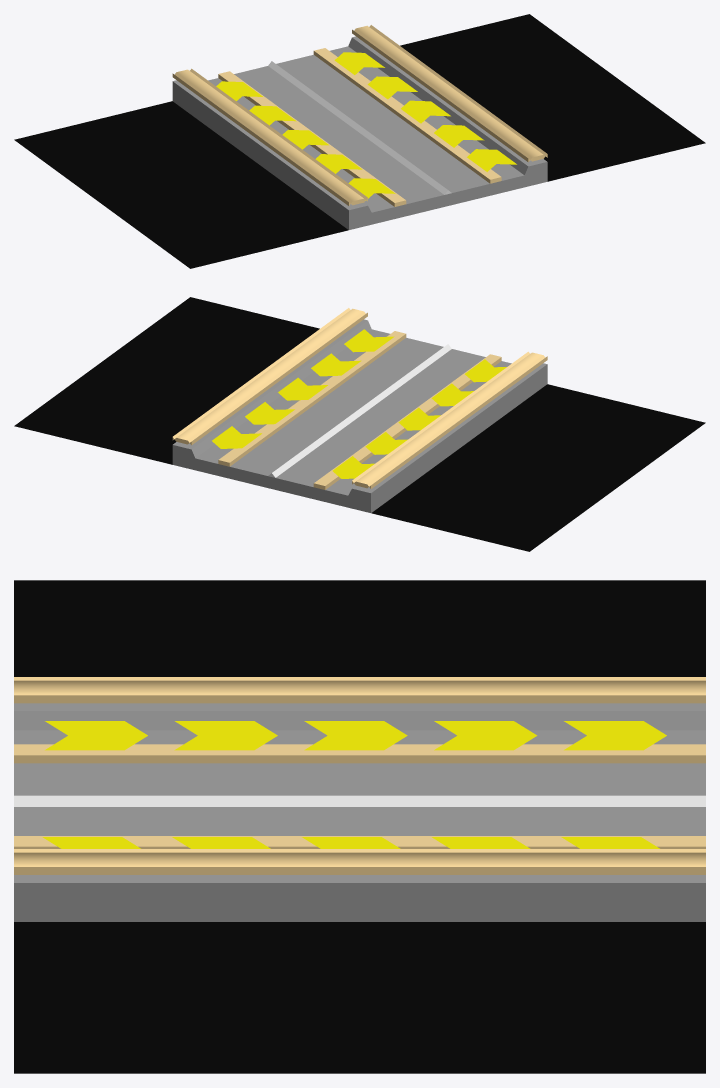
The model's file is station__road.glb.
The picture shows the model from 3 angles, top to bottom: view 1: azimuth 30°, elevation 25°; view 2: azimuth 150°, elevation 25°; view 3: azimuth 270°, elevation 25°; orthographic projection. The views are drawn at different scales.
Visible parts, largest first — view 1: _basefloor, road, Shape 0 (×10), road__top--left, road__top--right, road__rail--right, road__rail--middle, road__rail--left; view 2: _basefloor, road, Shape 0 (×10), road__top--left, road__top--right, road__rail--right, road__rail--middle, road__rail--left; view 3: _basefloor, road, road__top--left, road__top--right, Shape 0 (×10), road__rail--left, road__rail--middle, road__rail--right.
Boxes of the visible parts, left/top/right/bottom form: _basefloor: left=14, top=14, right=705, bottom=268; road: left=172, top=36, right=547, bottom=229; Shape 0 (×10): left=216, top=52, right=516, bottom=200; road__top--left: left=172, top=68, right=367, bottom=205; road__top--right: left=352, top=25, right=547, bottom=162; road__rail--right: left=313, top=48, right=501, bottom=183; road__rail--middle: left=268, top=61, right=451, bottom=194; road__rail--left: left=218, top=71, right=406, bottom=206; _basefloor: left=14, top=297, right=705, bottom=551; road: left=172, top=319, right=547, bottom=512; Shape 0 (×10): left=212, top=329, right=506, bottom=478; road__top--left: left=352, top=351, right=547, bottom=488; road__top--right: left=172, top=308, right=367, bottom=445; road__rail--right: left=218, top=331, right=406, bottom=466; road__rail--middle: left=268, top=344, right=451, bottom=477; road__rail--left: left=313, top=354, right=501, bottom=489; _basefloor: left=14, top=580, right=705, bottom=1073; road: left=14, top=703, right=705, bottom=921; road__top--left: left=14, top=677, right=705, bottom=703; road__top--right: left=14, top=849, right=705, bottom=874; Shape 0 (×10): left=42, top=721, right=666, bottom=848; road__rail--left: left=14, top=744, right=705, bottom=763; road__rail--middle: left=14, top=795, right=705, bottom=806; road__rail--right: left=14, top=836, right=705, bottom=848.
Bounding box in the file's own units: 10.8 × 0.56 × 6.4.
